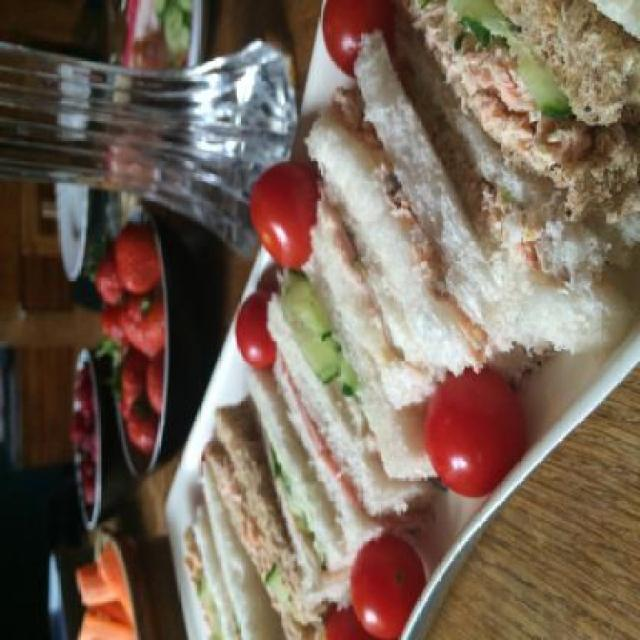Tomato: (421, 364, 525, 502), (348, 534, 424, 638), (250, 165, 318, 266), (324, 0, 397, 78), (234, 292, 272, 368), (325, 615, 363, 639)
